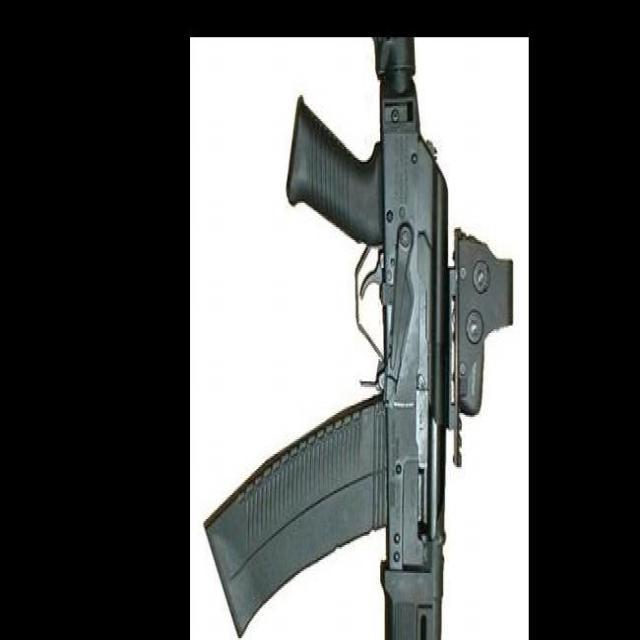weapon: (204, 36, 513, 640)
